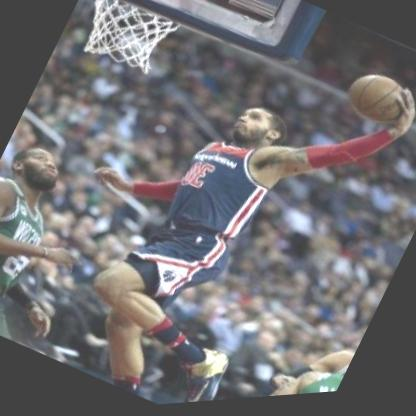basketball: (334, 62, 416, 146)
rim: (67, 0, 196, 99)
